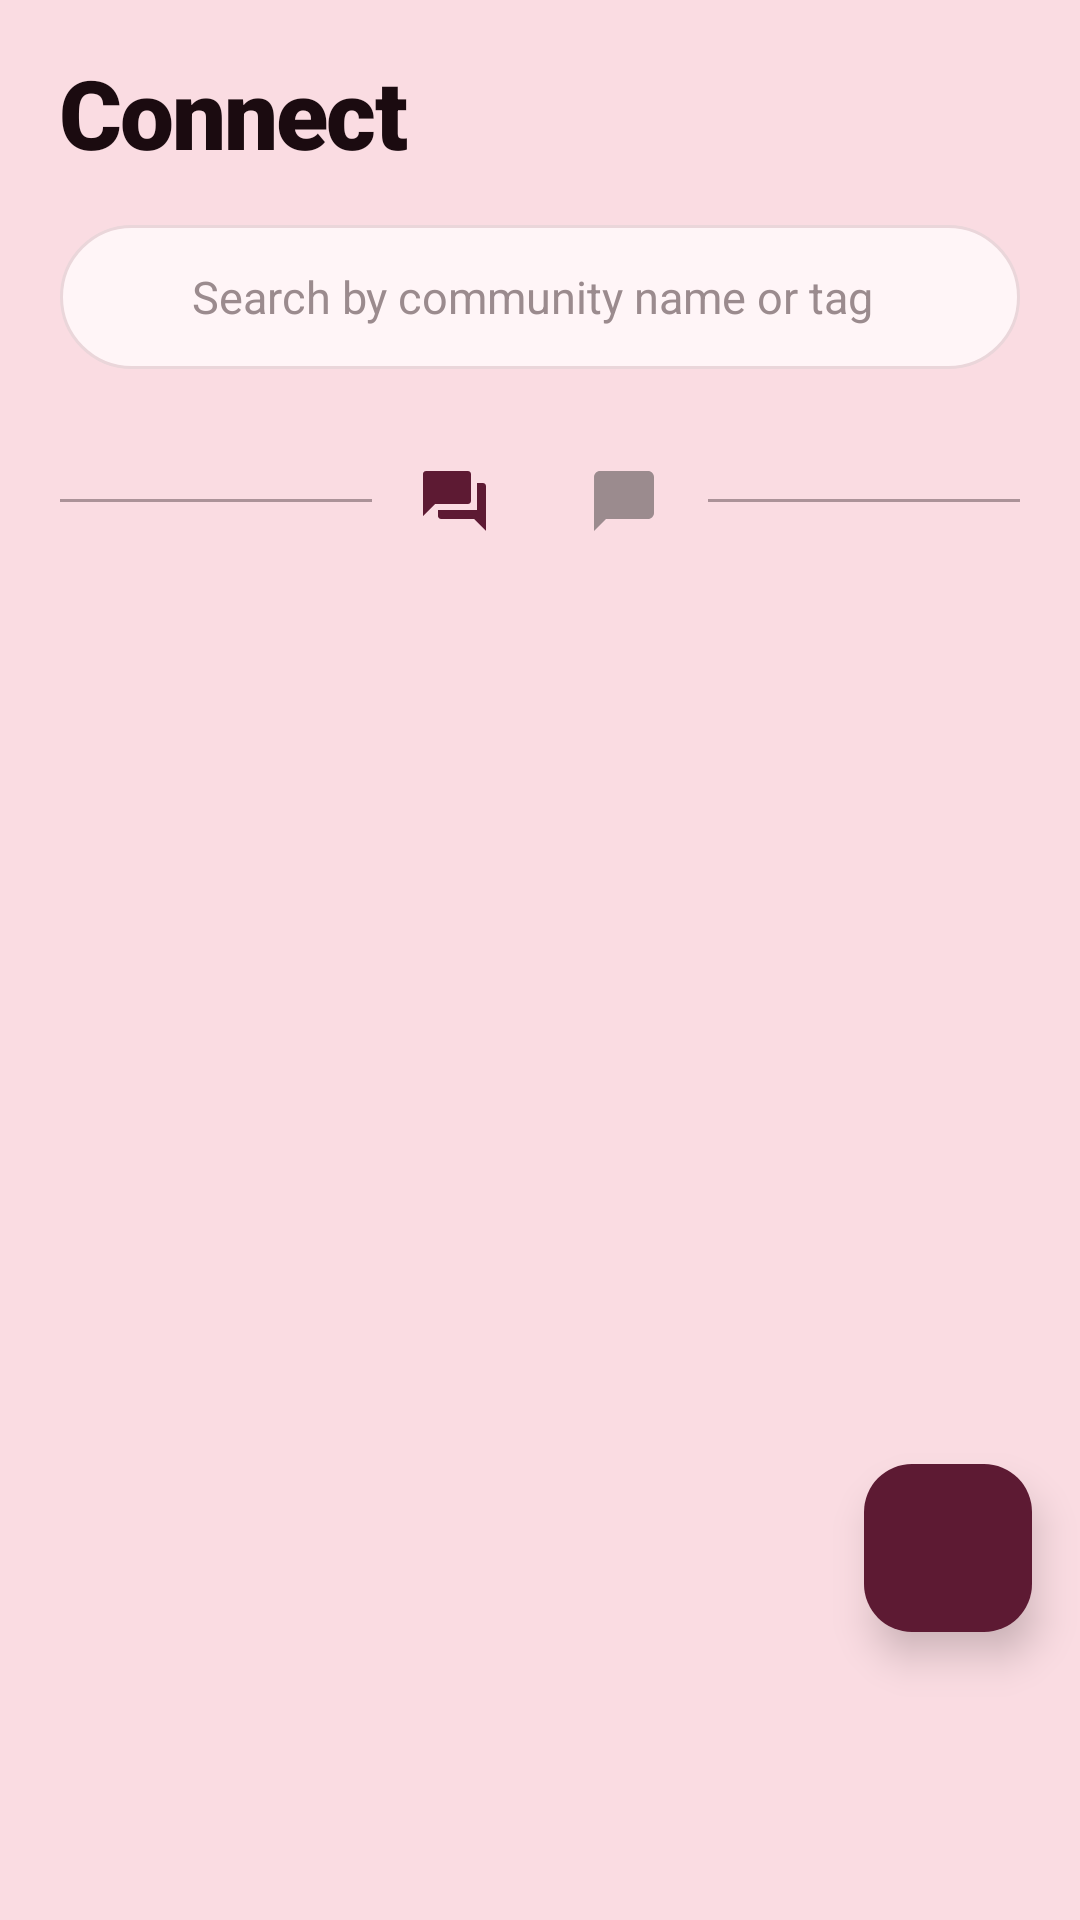

Icons on this 1080*1920 Android screen, each with the point to tap as point (x, y):
Chats: point (624, 501)
Communities: point (454, 501)
